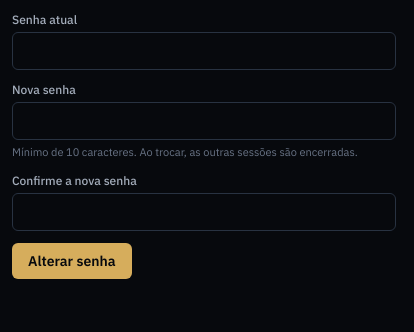
FormSenha › bloqueia confirmação diferente
Type "antiga-123" into the password field labelled "Senha atual" at point(204, 51), box x1=12 y1=32 x2=396 y2=70
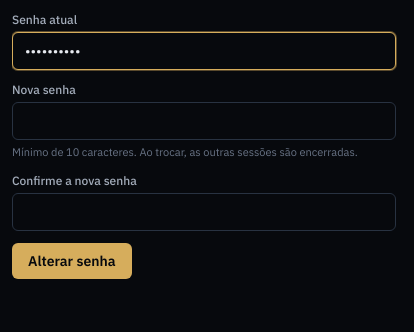
Type "nova-senha-forte" into the password field labelled "Nova senha" at point(204, 121), box x1=12 y1=102 x2=396 y2=140
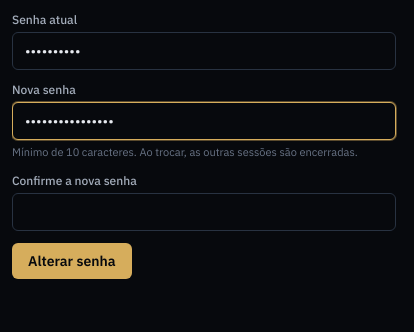
Type "outra-senha-forte" into the password field labelled "Confirme a nova senha" at point(204, 212), box x1=12 y1=192 x2=396 y2=230
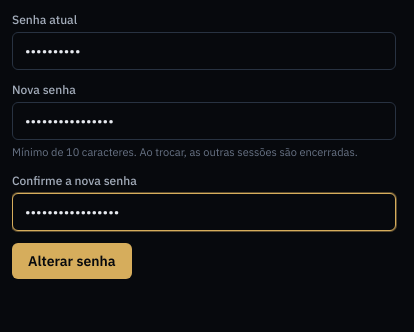
Click the button "Alterar senha" at point(72, 260), box x1=12 y1=242 x2=132 y2=278
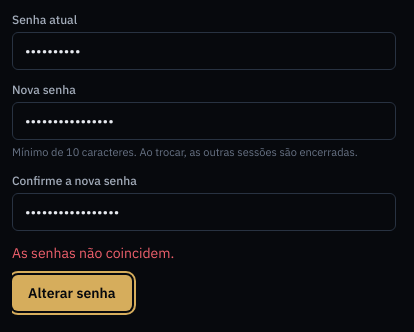
Result: the message reads "As senhas não coincidem." at x1=12 y1=244 x2=174 y2=262
